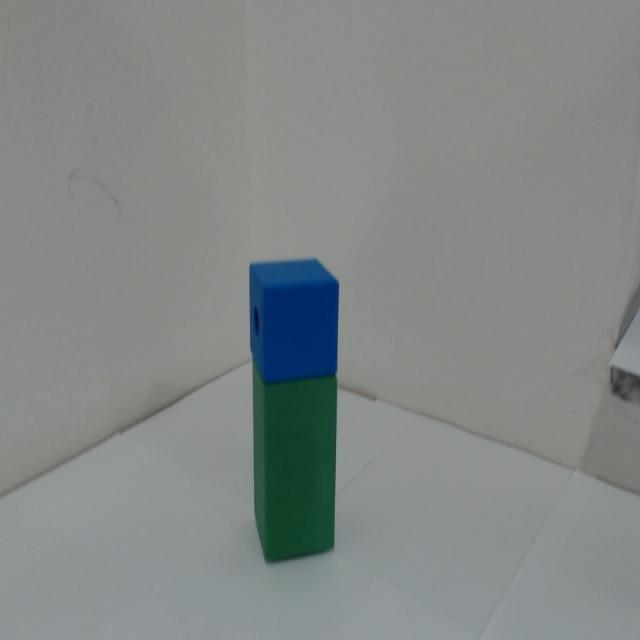cube: (229, 233, 373, 400)
